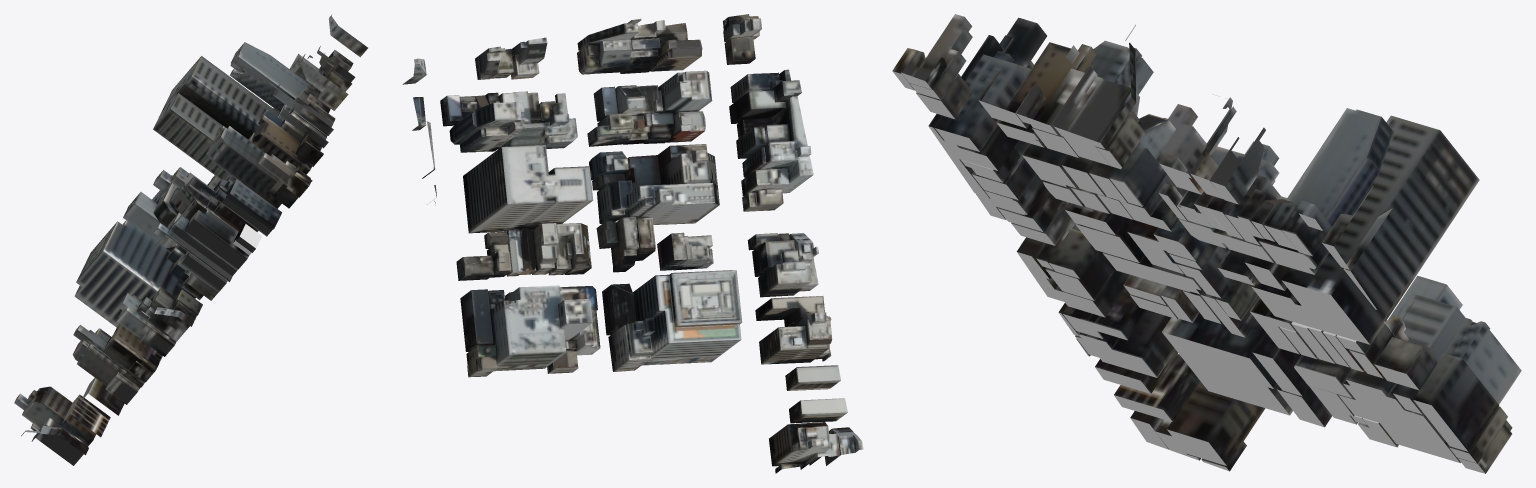
File: 39541_bldg_Building.glb
The picture shows the model from 3 angles, left to right: view 1: azimuth 30°, elevation 25°; view 2: azimuth 150°, elevation 25°; view 3: azimuth 270°, elevation 25°; orthographic projection. The views are drawn at different scales.
Size of the model in its own units: 162 by 141 by 140.
Materials: 2 (1 with a texture image).
